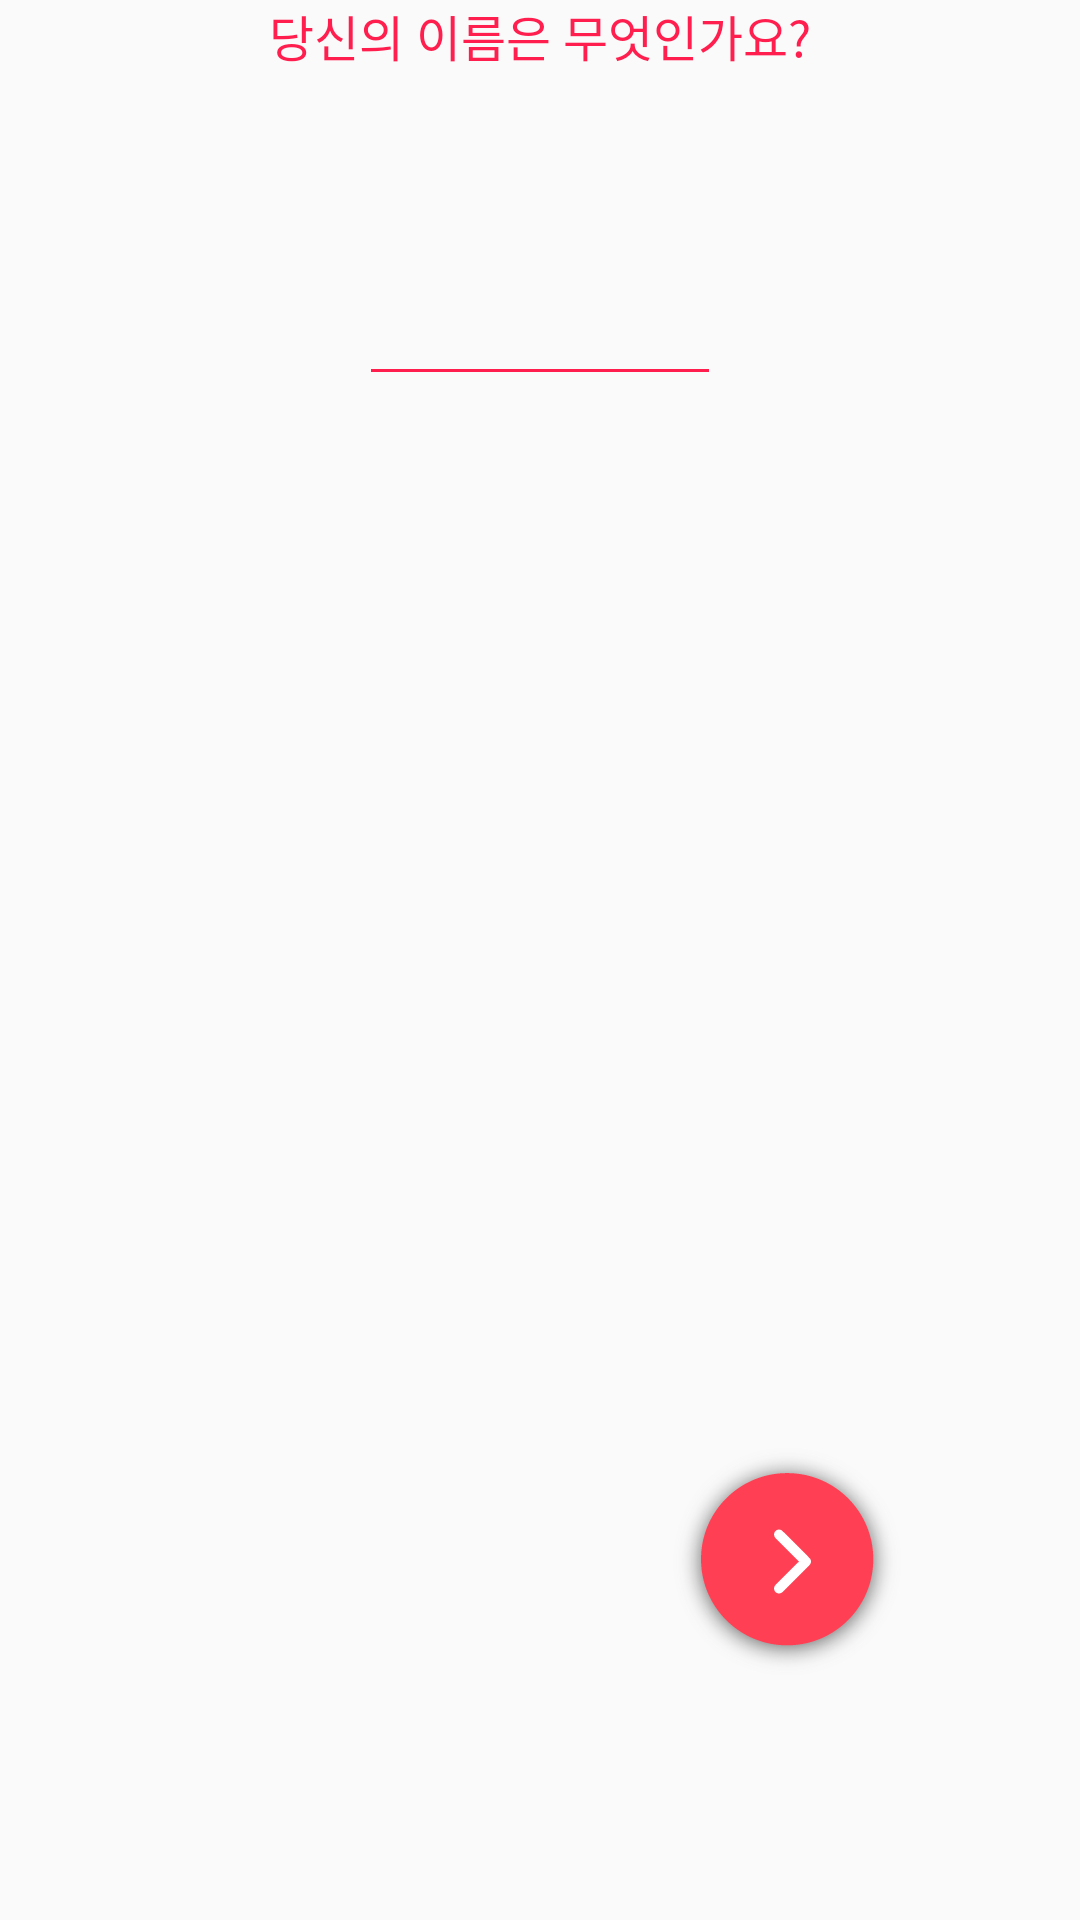

Icons on this 1080*1920 Android screen, each with its box as Rect(x1, y1, x2, y2):
next: Rect(691, 1465, 884, 1658)
